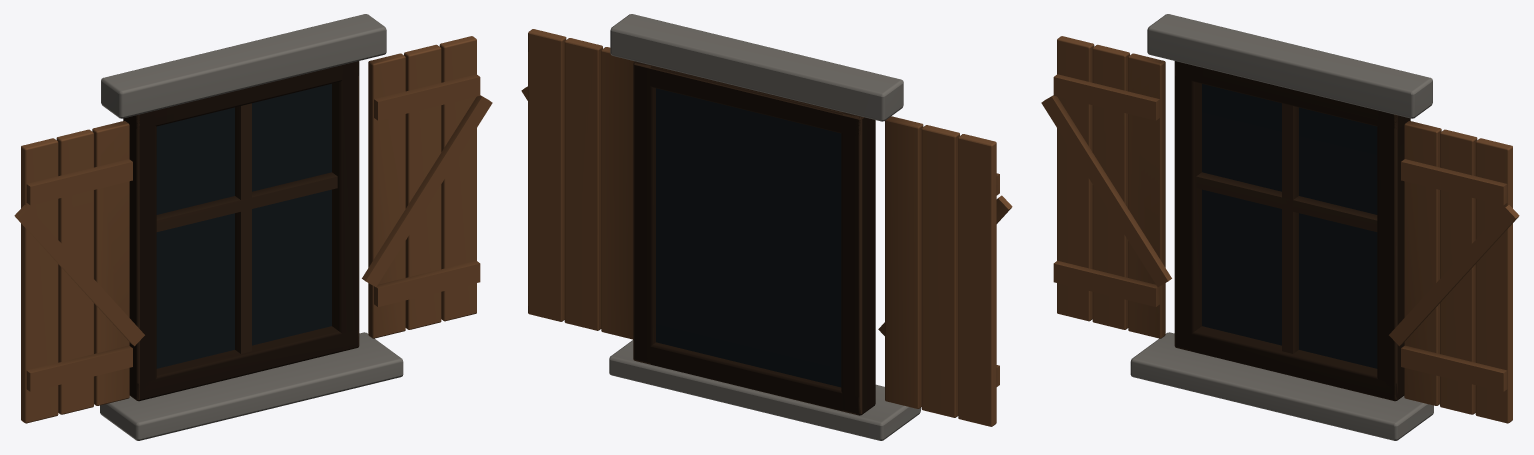
The model's file is window_dark.glb.
3 views of the same model, side by side, from view 1: azimuth 30°, elevation 25°; view 2: azimuth 150°, elevation 25°; view 3: azimuth 330°, elevation 25° (orthographic). The views are drawn at different scales.
Visible parts, largest first — view 1: Glass, Lintel, Sill, Shutter0Plank0, Shutter2Plank0, Shutter0Plank1, Shutter0Plank2, Shutter2Plank1, Jamb1, Shutter2Plank2, Jamb0, Rail0 (+9 smaller); view 2: Glass, Lintel, Shutter0Plank0, Shutter2Plank1, Shutter0Plank1, Shutter2Plank2, Shutter0Plank2, Jamb0, Shutter2Plank0, Sill, Jamb1, Rail0 (+1 smaller); view 3: Glass, Lintel, Sill, Shutter2Plank2, Shutter0Plank2, Shutter2Plank1, Shutter2Plank0, Shutter0Plank1, Jamb0, Shutter0Plank0, Jamb1, Rail0 (+9 smaller).
Part boxes in pixels (box(x1,y1,x2,y2)): Glass: box(156, 84, 331, 368); Lintel: box(101, 14, 386, 118); Sill: box(100, 332, 403, 440); Shutter0Plank0: box(21, 138, 58, 423); Shutter2Plank0: box(368, 53, 405, 338); Shutter0Plank1: box(56, 129, 93, 414); Shutter0Plank2: box(92, 121, 129, 405); Shutter2Plank1: box(404, 44, 441, 329); Jamb1: box(332, 61, 359, 351); Shutter2Plank2: box(439, 36, 476, 321); Jamb0: box(123, 111, 156, 401); Rail0: box(135, 326, 358, 400); Glass: box(656, 88, 841, 387); Lintel: box(610, 14, 903, 121); Shutter0Plank0: box(958, 134, 996, 426); Shutter2Plank1: box(564, 38, 602, 330); Shutter0Plank1: box(921, 125, 959, 417); Shutter2Plank2: box(528, 29, 566, 321); Shutter0Plank2: box(885, 116, 923, 408); Jamb0: box(841, 112, 875, 415); Shutter2Plank0: box(601, 47, 634, 339); Sill: box(609, 340, 920, 440); Jamb1: box(633, 61, 655, 364); Rail0: box(638, 342, 860, 415); Glass: box(1202, 84, 1377, 368); Lintel: box(1147, 14, 1432, 118); Sill: box(1130, 332, 1433, 440); Shutter2Plank2: box(1475, 138, 1512, 423); Shutter0Plank2: box(1128, 53, 1165, 338); Shutter2Plank1: box(1440, 129, 1477, 414); Shutter2Plank0: box(1404, 121, 1441, 405); Shutter0Plank1: box(1092, 44, 1129, 329); Jamb0: box(1174, 62, 1201, 351); Shutter0Plank0: box(1057, 36, 1094, 321); Jamb1: box(1377, 111, 1410, 401); Rail0: box(1175, 326, 1403, 401).
Bounding box in the file's own units: 2.13 × 1.45 × 0.3.
